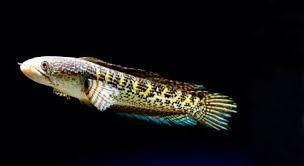Snakehead: (18, 51, 239, 133)
